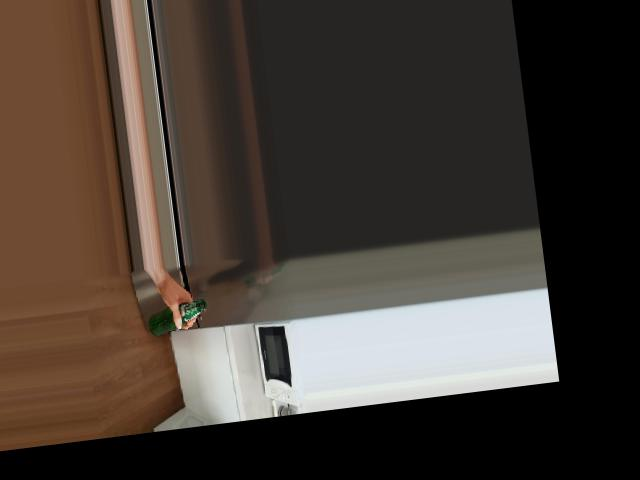beer: (145, 298, 209, 336)
